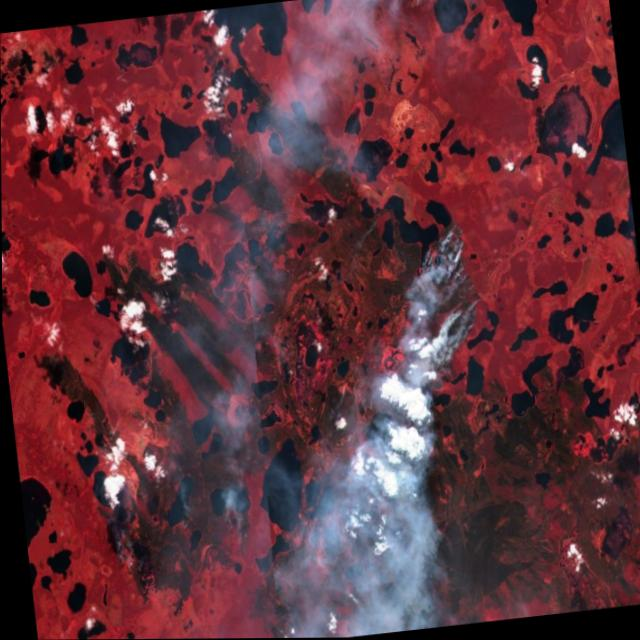fire: (403, 216, 495, 373), (205, 481, 262, 558)
